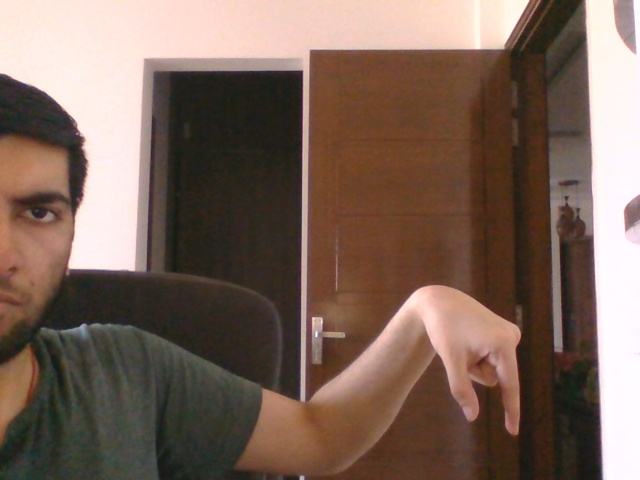LetterQ: (412, 282, 523, 438)
